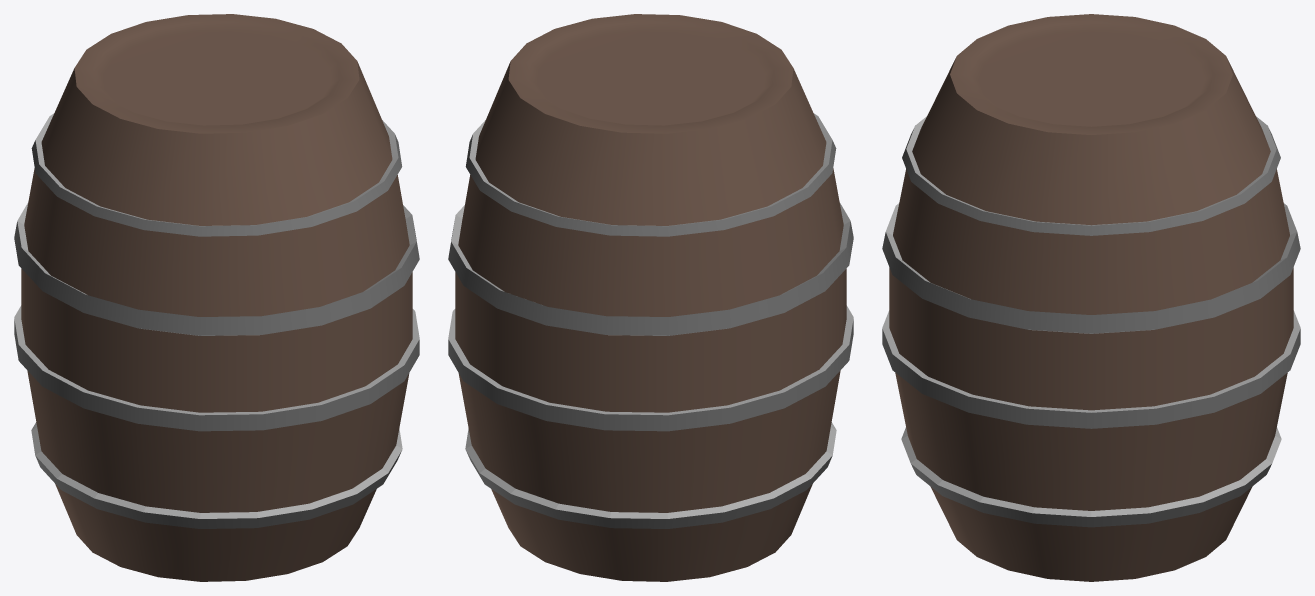
Rendered from barrel.fbx.
3 renders of one model, left to right at view 1: azimuth 30°, elevation 25°; view 2: azimuth 150°, elevation 25°; view 3: azimuth 270°, elevation 25°, orthographic.
Visible parts, largest first — view 1: pCylinder1; view 2: pCylinder1; view 3: pCylinder1.
Boxes of the visible parts, x1=… form: pCylinder1: x1=14, y1=14, x2=419, y2=581; pCylinder1: x1=448, y1=14, x2=853, y2=581; pCylinder1: x1=882, y1=14, x2=1300, y2=581.
Size of the model in its own units: 4.76 by 5.85 by 4.96.
